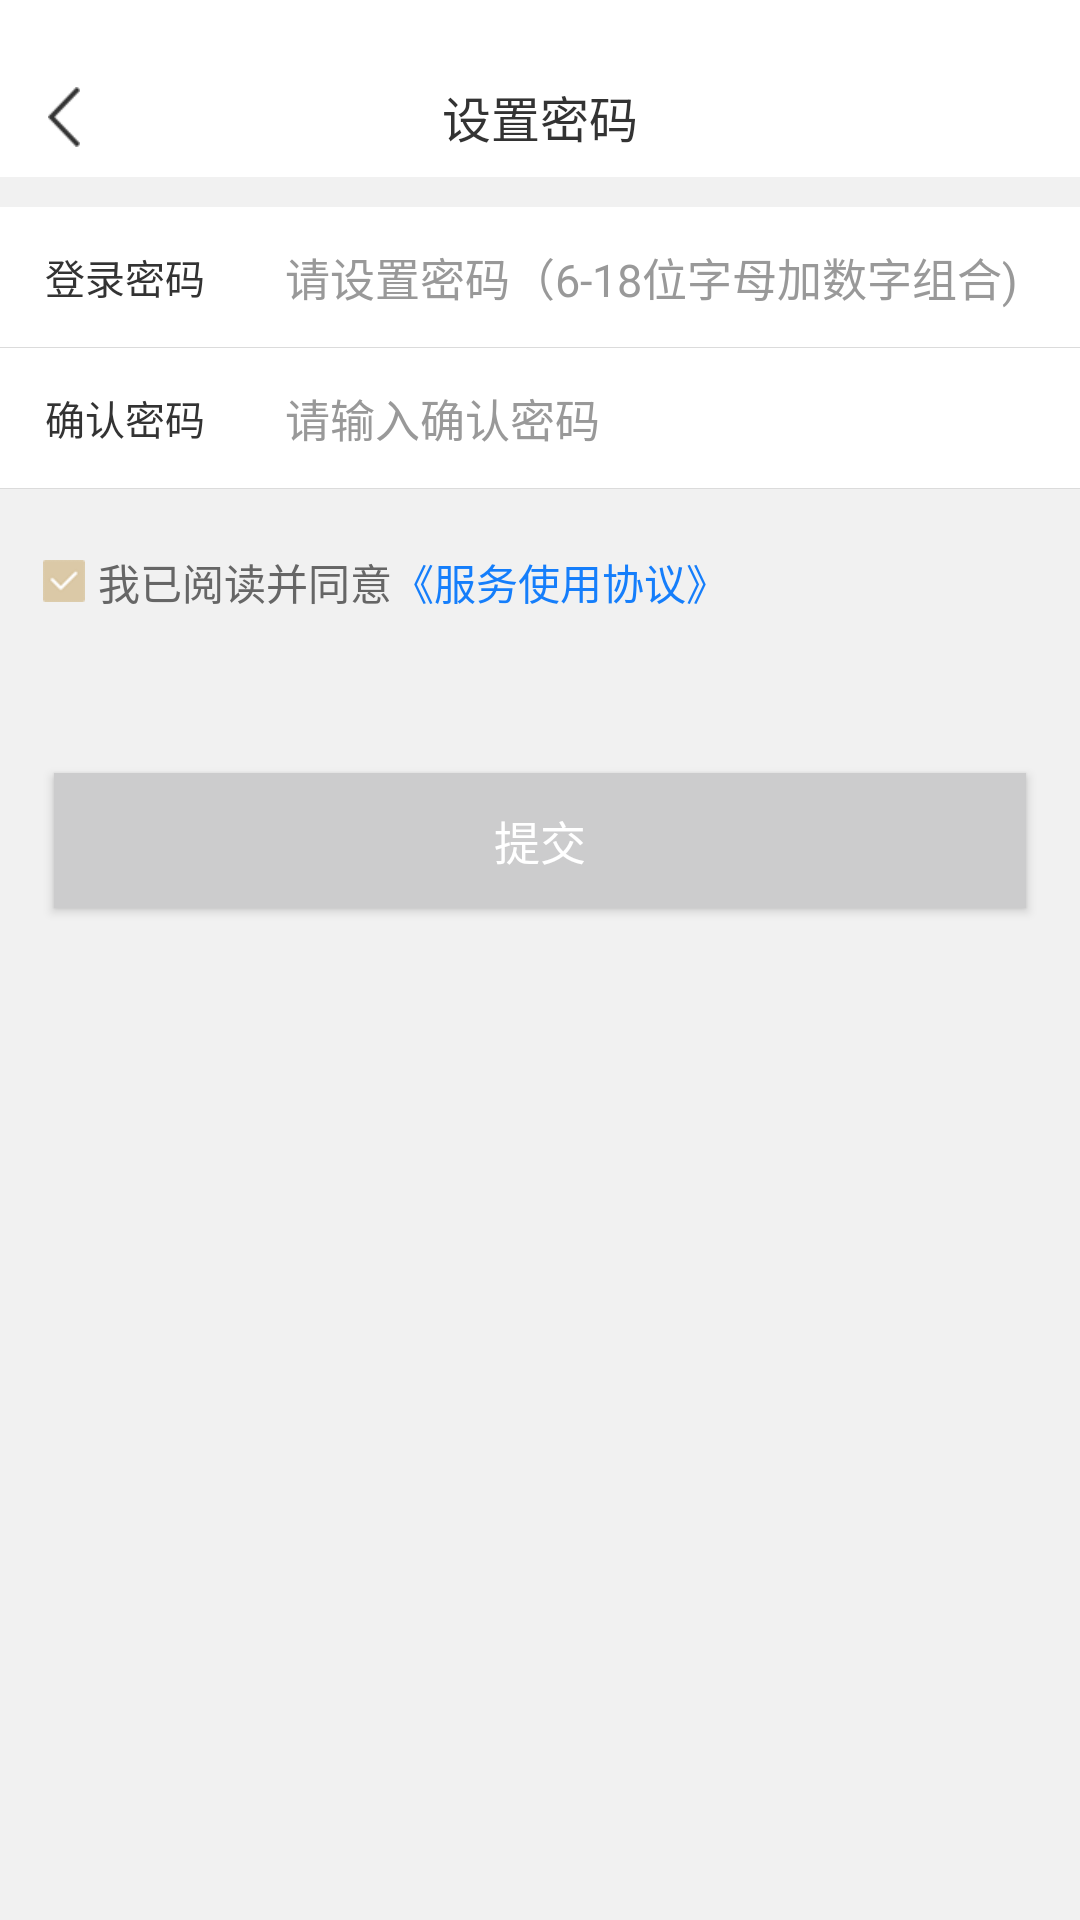

Icons on this 1080*1920 Android screen, each with its box as bbox=(x1, y1, x2, y2):
mybtn return: bbox=(48, 87, 80, 147)
ud check: bbox=(43, 560, 85, 602)
